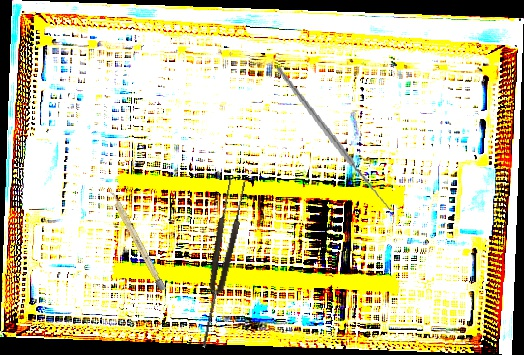Hook Surgical: (275, 53, 401, 224)
Scalpel Handle: (107, 189, 167, 292)
Tissue Forceps: (192, 177, 249, 350)
